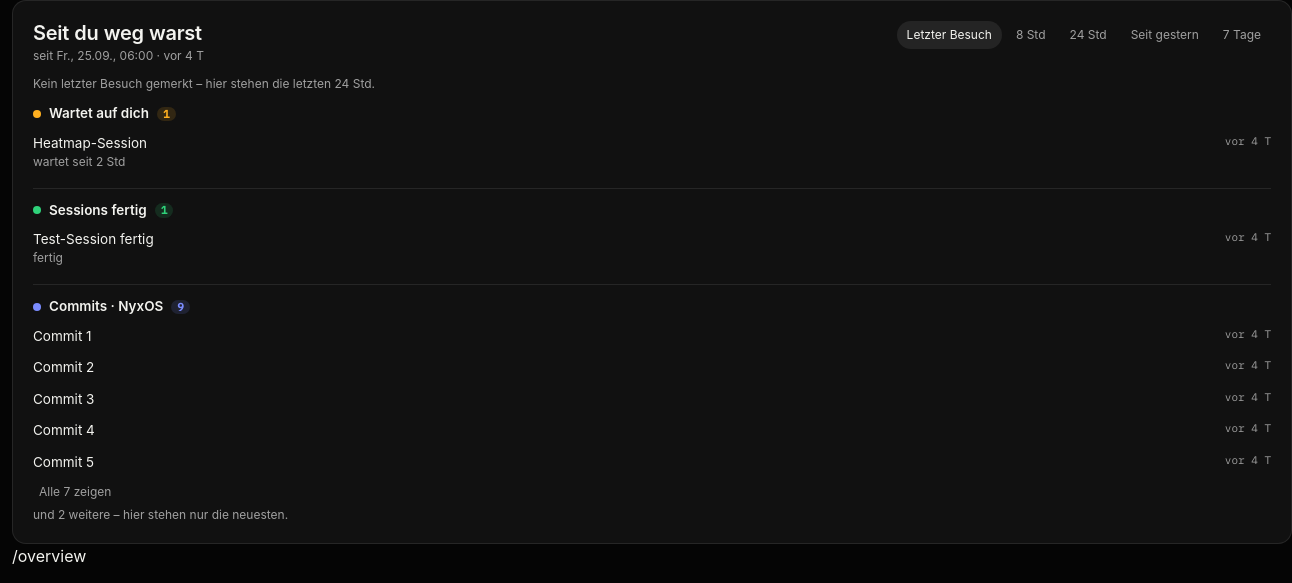
Test: SinceCard › Klick auf eine Zeile springt zur Quelle
The width and height of the screenshot is (1292, 583).
What coordinates should you click on to do the following:
click the link "Test-Session fertig fertig vor 4 T"
I would click on:
 (93, 239)
Its box is [25,224,1279,272].
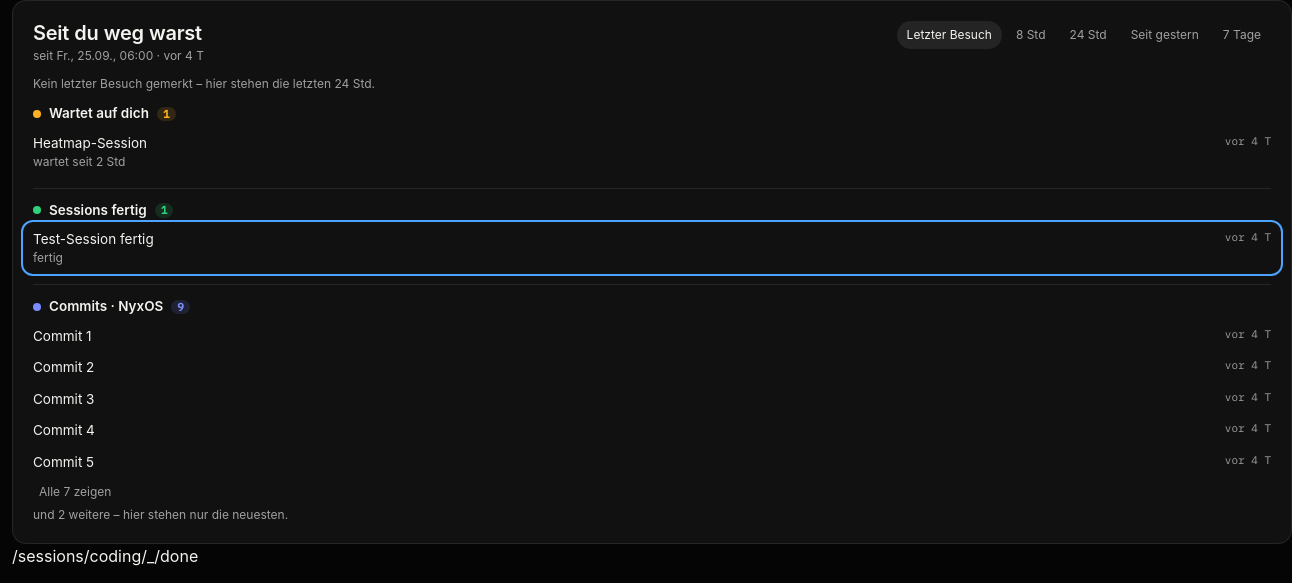
Now the text with test id "where" reads "/sessions/coding/_/done", box [12,546,198,566]
